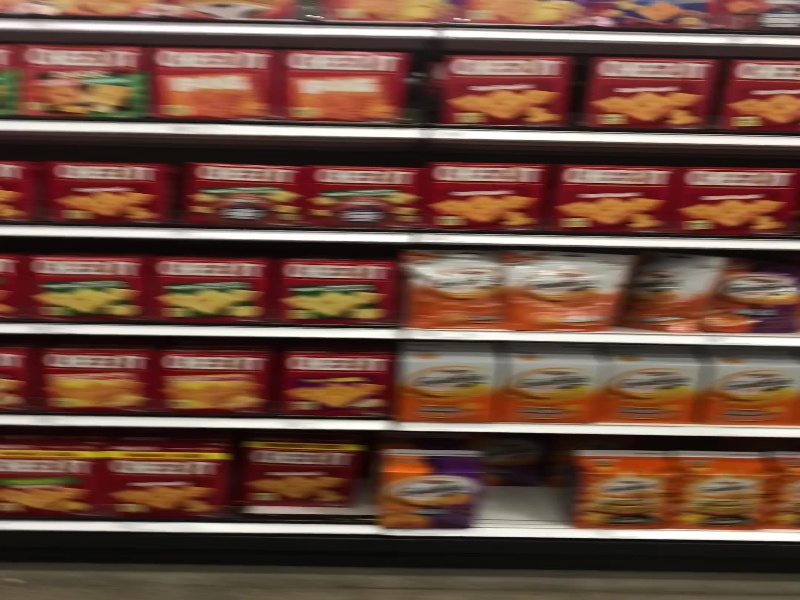void: (477, 430, 574, 533)
